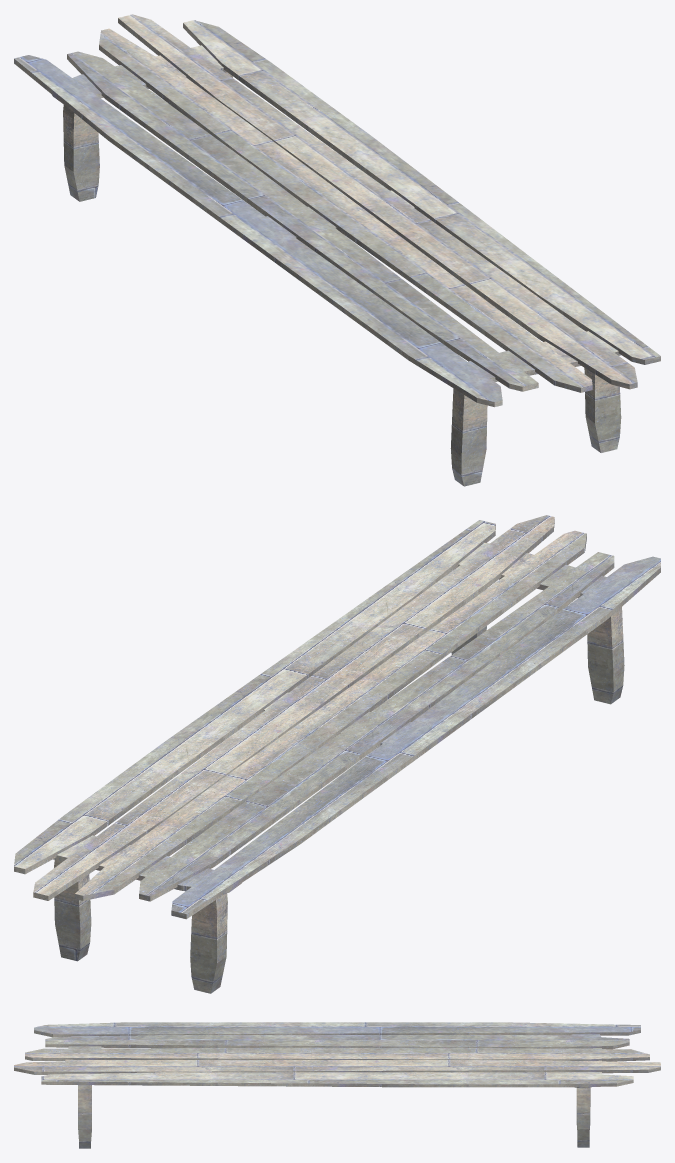
Rendered from Flame.fbx.
3 views of the same model, one above another, from view 1: azimuth 30°, elevation 25°; view 2: azimuth 150°, elevation 25°; view 3: azimuth 270°, elevation 25° (orthographic). The views are drawn at different scales.
Parts seen in each view (by area): view 1: Table1; view 2: Table1; view 3: Table1.
Boxes of the visible parts, bbox=[...] form: Table1: bbox=[14, 14, 660, 486]; Table1: bbox=[14, 515, 660, 993]; Table1: bbox=[14, 1022, 660, 1148].
Bounding box in the file's own units: 466 × 251 × 2062.
